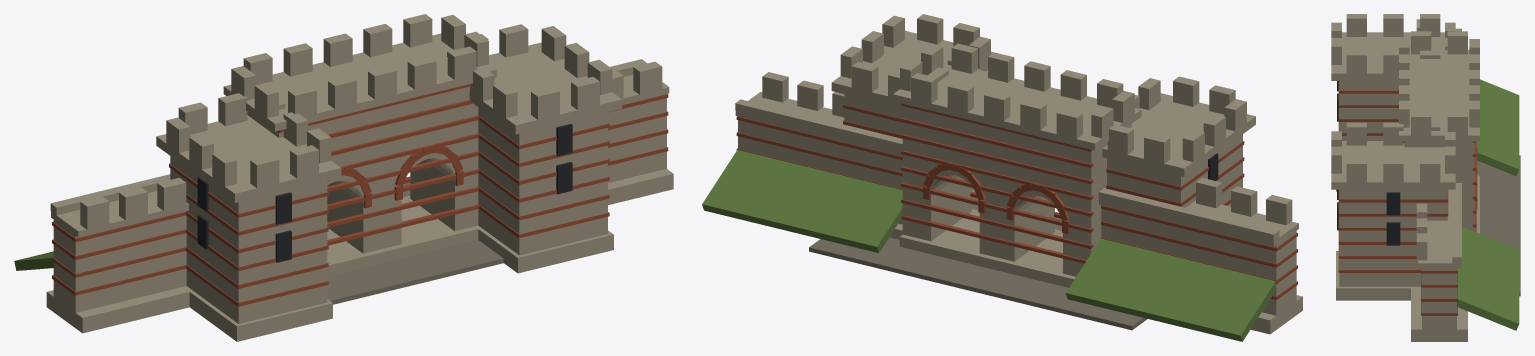
The model's file is roman_gate.glb.
3 views of the same model, side by side, from view 1: azimuth 30°, elevation 25°; view 2: azimuth 150°, elevation 25°; view 3: azimuth 270°, elevation 25° (orthographic). The views are drawn at different scales.
Visible parts, largest first — view 1: roman_gate; view 2: roman_gate; view 3: roman_gate.
Part boxes in pixels (left/top/right/bottom): roman_gate: left=14, top=14, right=673, bottom=341; roman_gate: left=702, top=14, right=1302, bottom=341; roman_gate: left=1331, top=14, right=1520, bottom=341.
Bounding box in the file's own units: 40.12 × 12.5 × 14.
